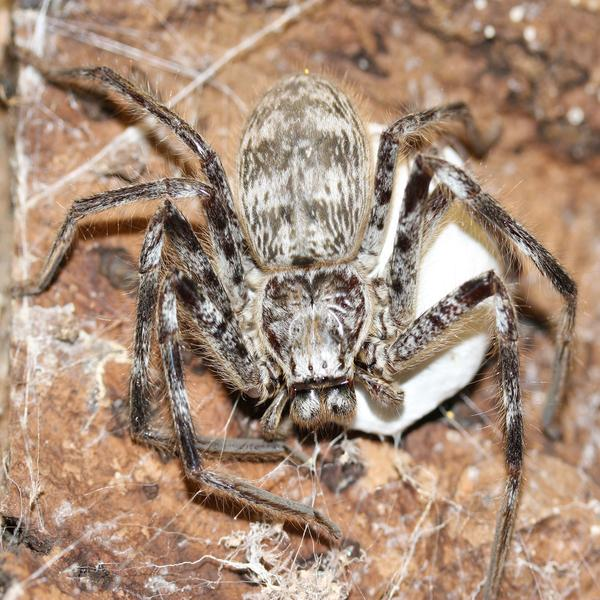Huntsman Spider: (56, 62, 579, 555)
